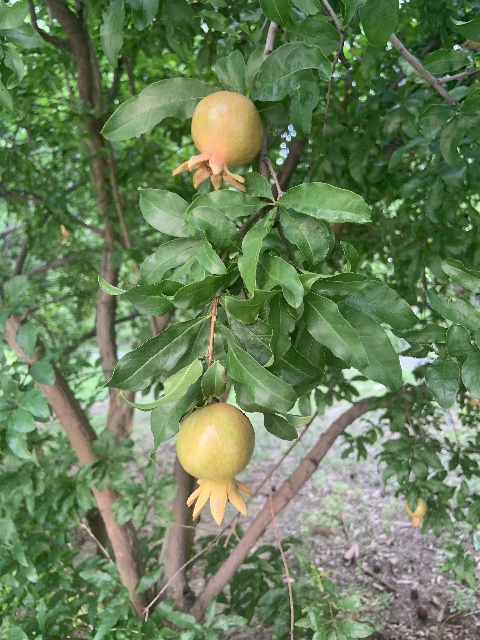mid-growth: (175, 402, 255, 525), (172, 90, 263, 192), (403, 497, 427, 527)
